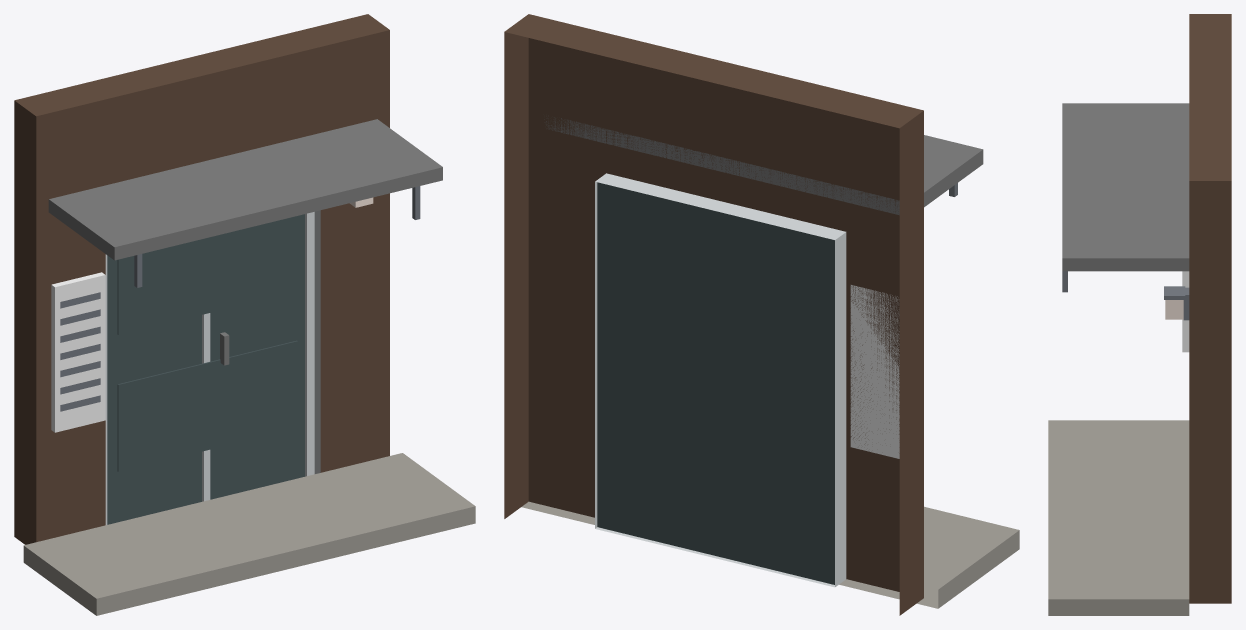
Rendered from entrance_close.fbx.
3 renders of one model, left to right at view 1: azimuth 30°, elevation 25°; view 2: azimuth 150°, elevation 25°; view 3: azimuth 270°, elevation 25°, orthographic. The views are drawn at different scales.
Visible parts, largest first — view 1: a2009/200/entrance_close; view 2: a2009/200/entrance_close; view 3: a2009/200/entrance_close.
Part boxes in pixels (x1=…): a2009/200/entrance_close: x1=14, y1=14, x2=475, y2=615; a2009/200/entrance_close: x1=504, y1=14, x2=1019, y2=615; a2009/200/entrance_close: x1=1048, y1=14, x2=1231, y2=615.
Bounding box in the file's own units: 3 × 3.35 × 1.3.
